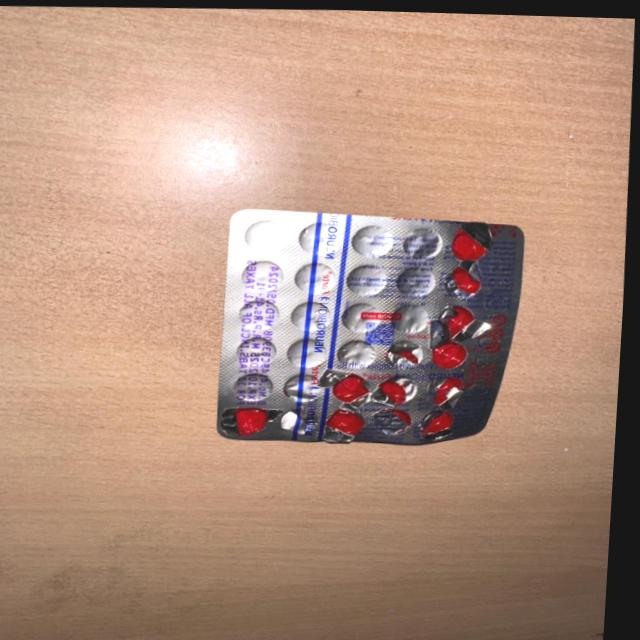medicine: (213, 190, 538, 449)
